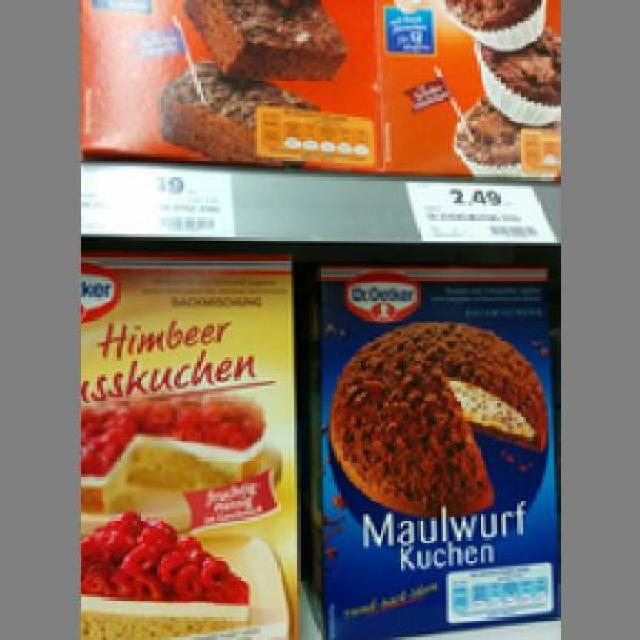Cake: (308, 260, 558, 637), (77, 248, 294, 638)
